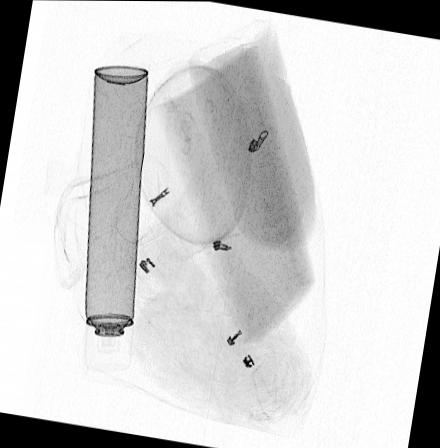Sprayer: (84, 63, 147, 372)
